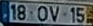1: (68, 6, 76, 24), (10, 3, 16, 21)
5: (75, 6, 85, 24)
8: (16, 3, 27, 22)
O: (36, 4, 48, 22)
V: (48, 5, 60, 23)
